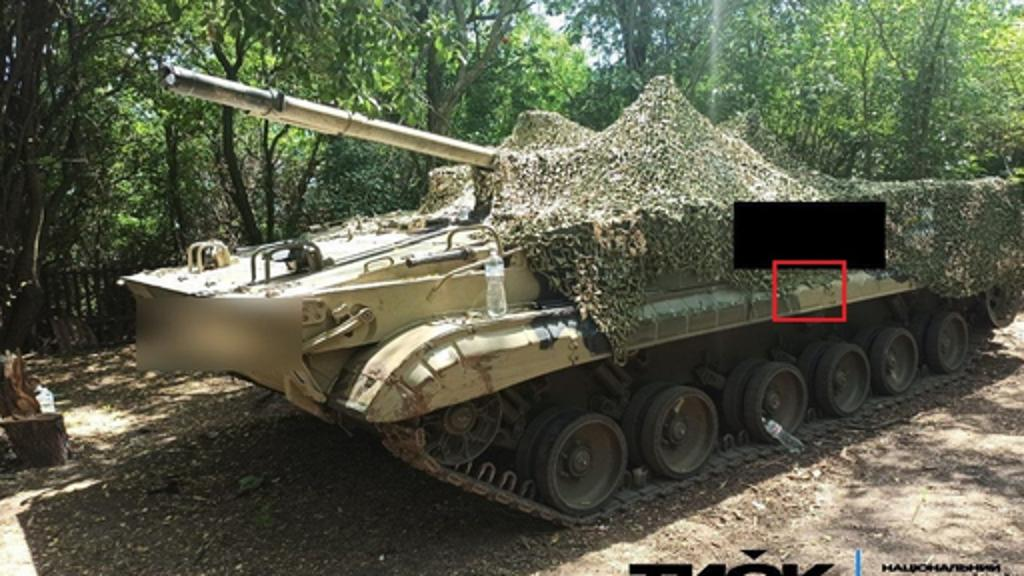APC-IFV: (108, 28, 1016, 526)
